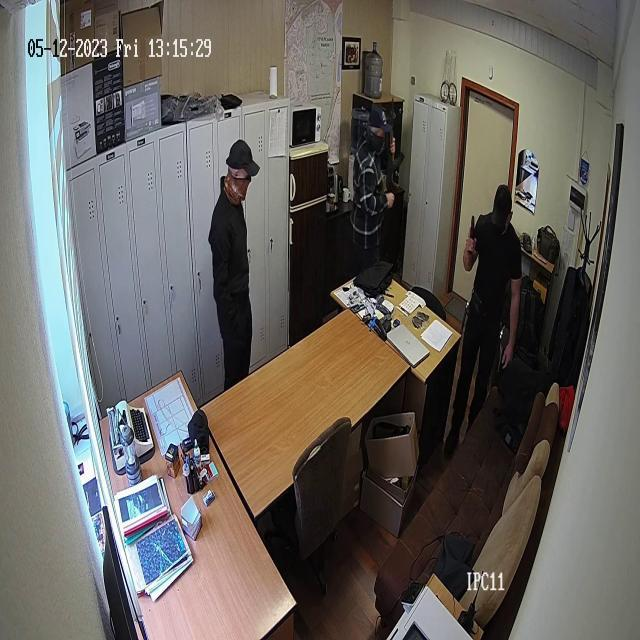pistol: (383, 102, 404, 206), (467, 213, 479, 256)
